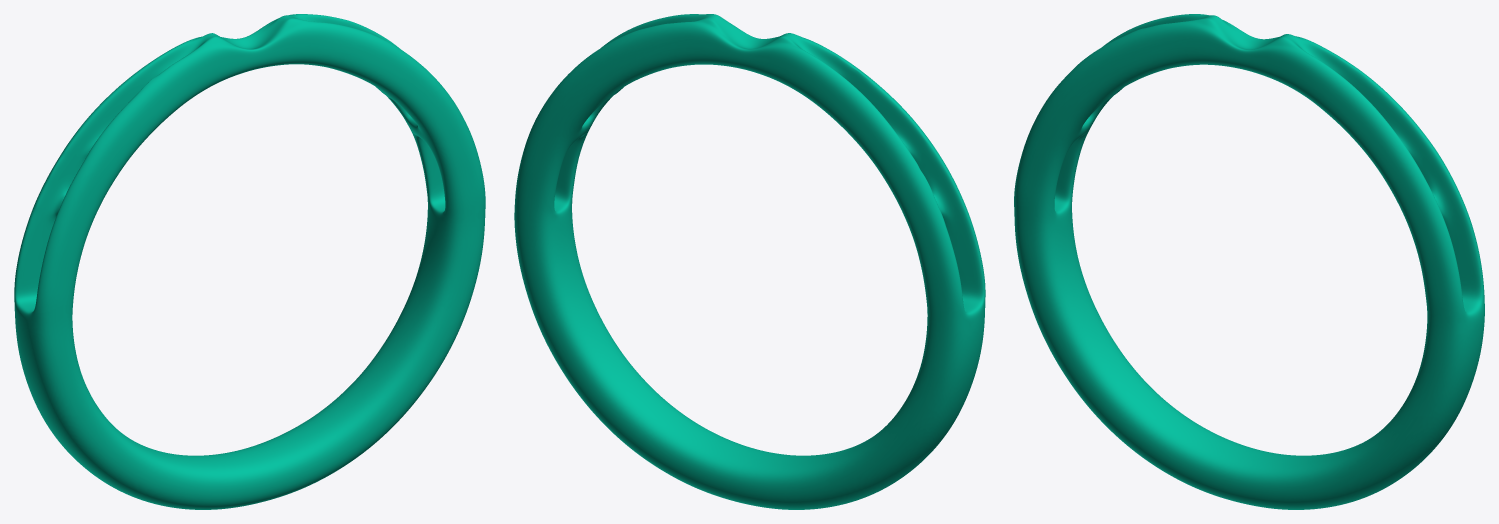
Rendered from Shank_Pinch_Channel_A_No, Hidden Halo_Band.glb.
3 renders of one model, left to right at view 1: azimuth 30°, elevation 25°; view 2: azimuth 150°, elevation 25°; view 3: azimuth 330°, elevation 25°, orthographic.
Bounding box in the file's own units: 0.0213 × 0.0211 × 0.00254.
